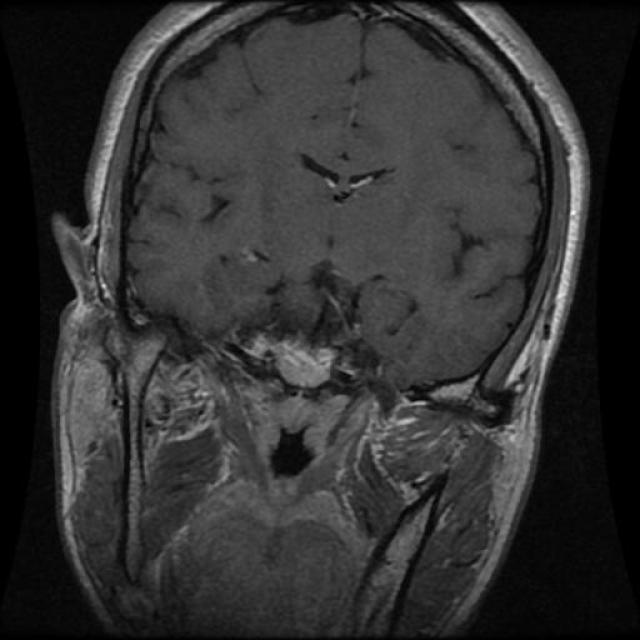pituitary: (243, 325, 357, 420)
